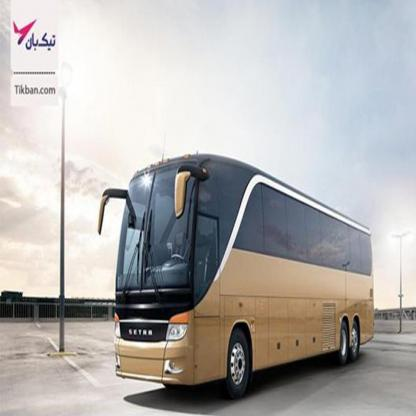Bus: (98, 152, 373, 416)
